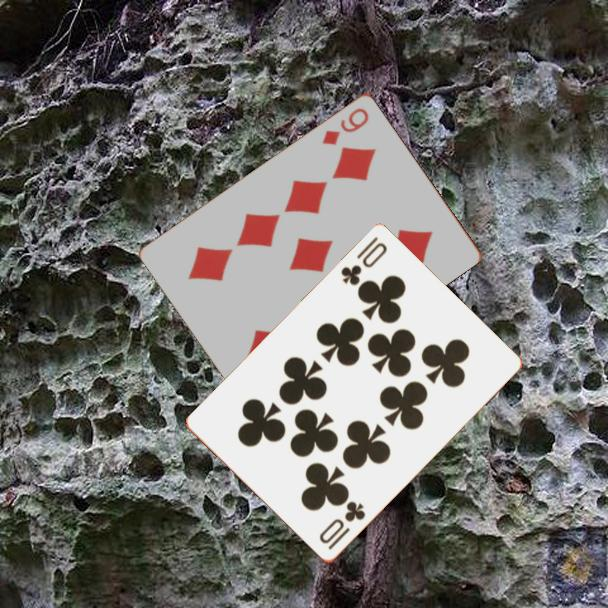c10: (315, 498, 369, 553), (337, 233, 390, 289)
d09: (319, 104, 372, 148)
